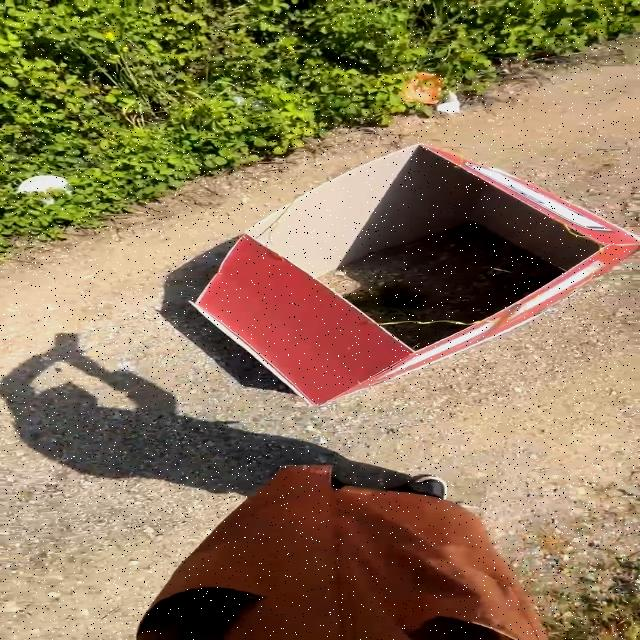red_car: (153, 114, 640, 415)
